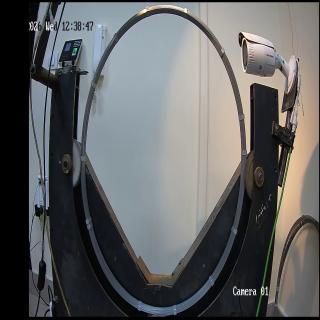clamp: (218, 46, 225, 58), (231, 225, 238, 236), (90, 80, 97, 90), (113, 33, 119, 44), (85, 216, 92, 225), (183, 7, 188, 19), (209, 275, 214, 287), (137, 300, 142, 312), (87, 222, 93, 231), (146, 5, 150, 18), (238, 114, 245, 121), (173, 304, 177, 316), (241, 150, 247, 155), (80, 156, 86, 161)
